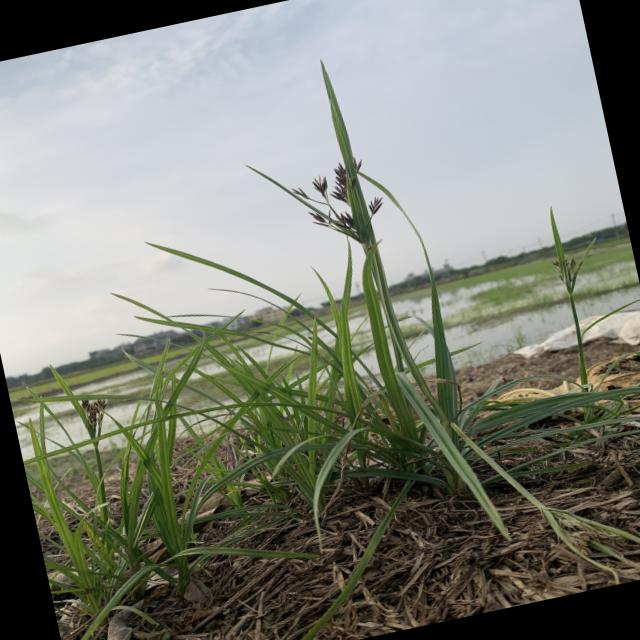cyperus: (280, 153, 398, 260), (535, 233, 592, 300), (68, 384, 120, 444)
